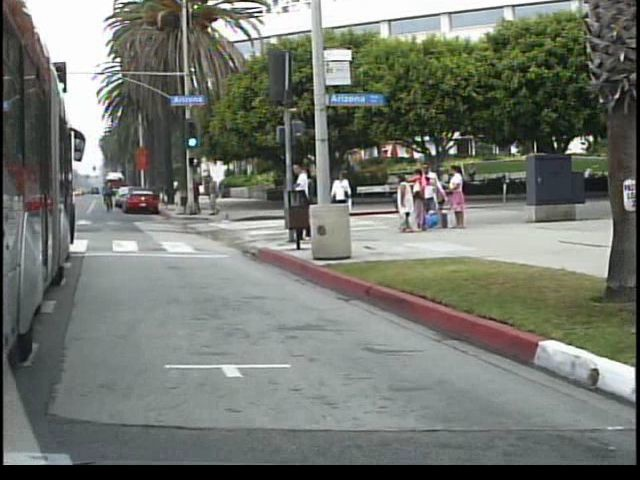person: (291, 158, 318, 244), (337, 167, 359, 236), (208, 171, 228, 219)
